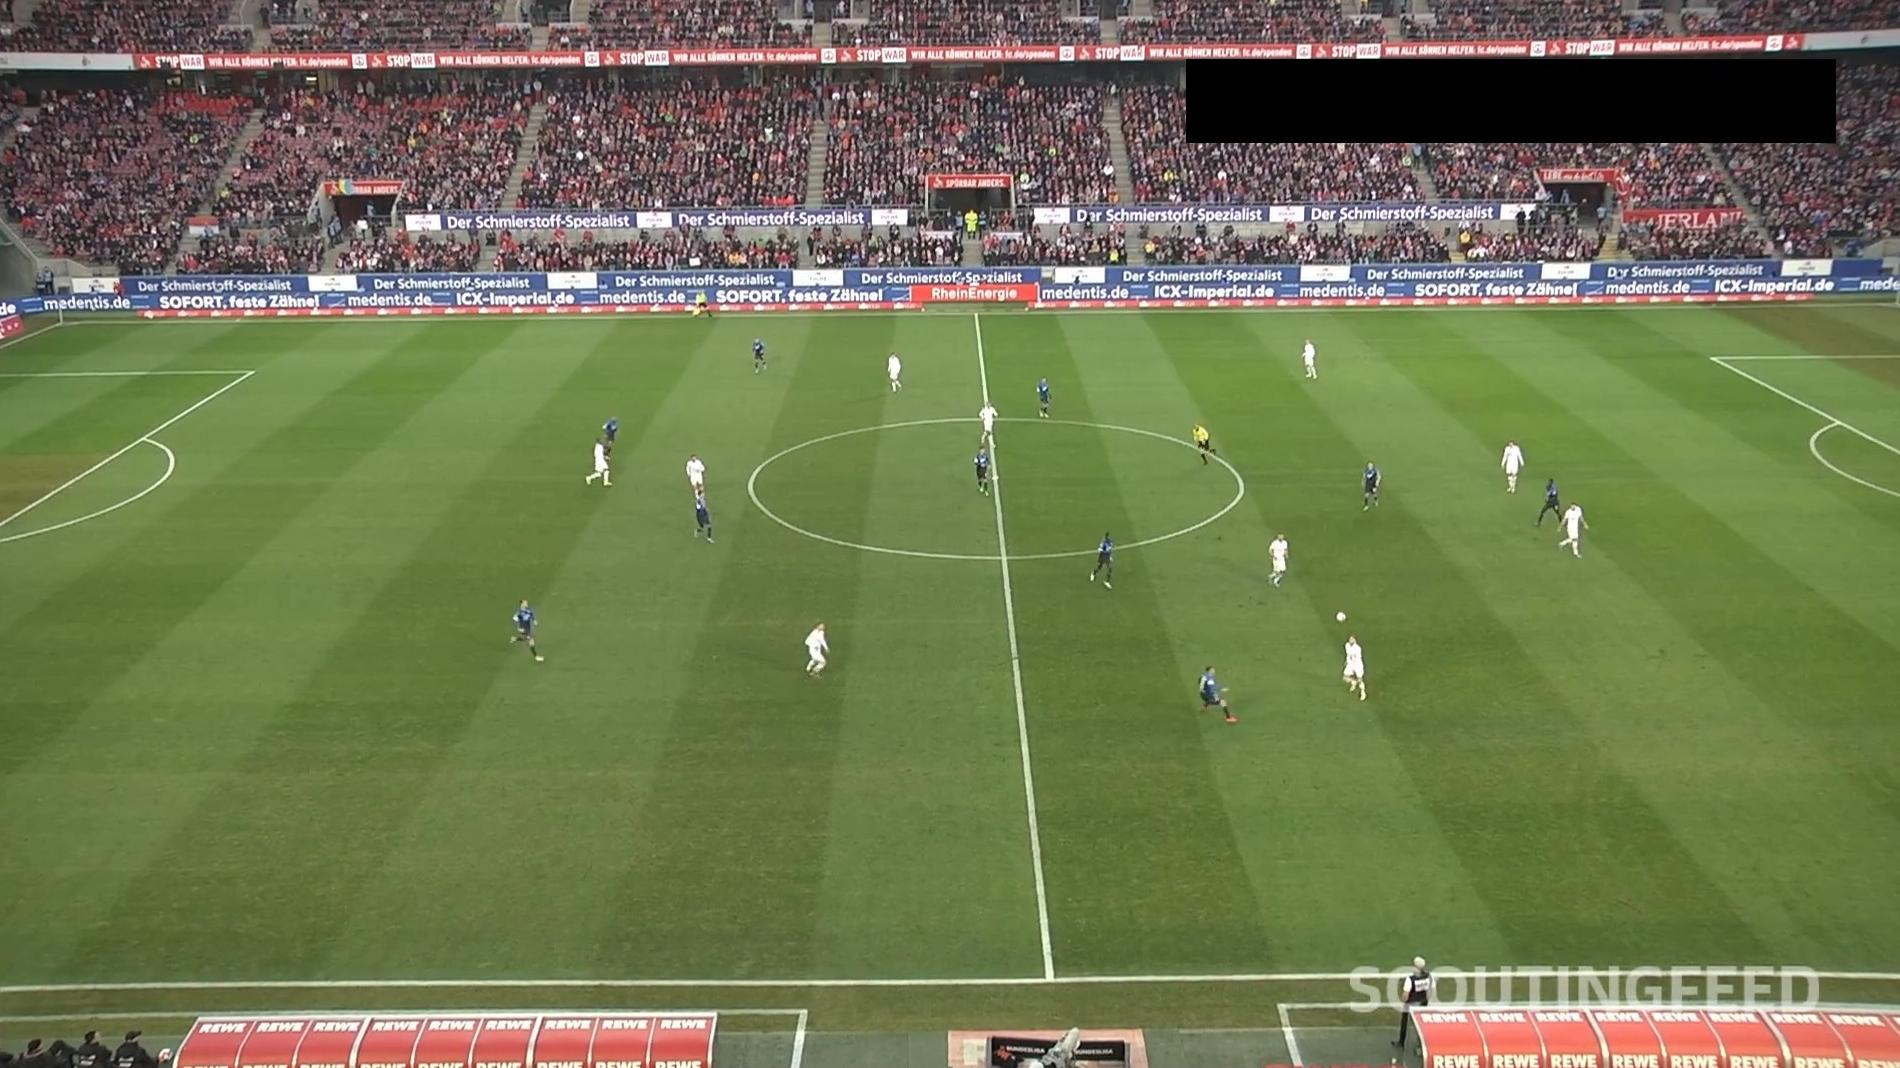ball: (1335, 610, 1347, 623)
